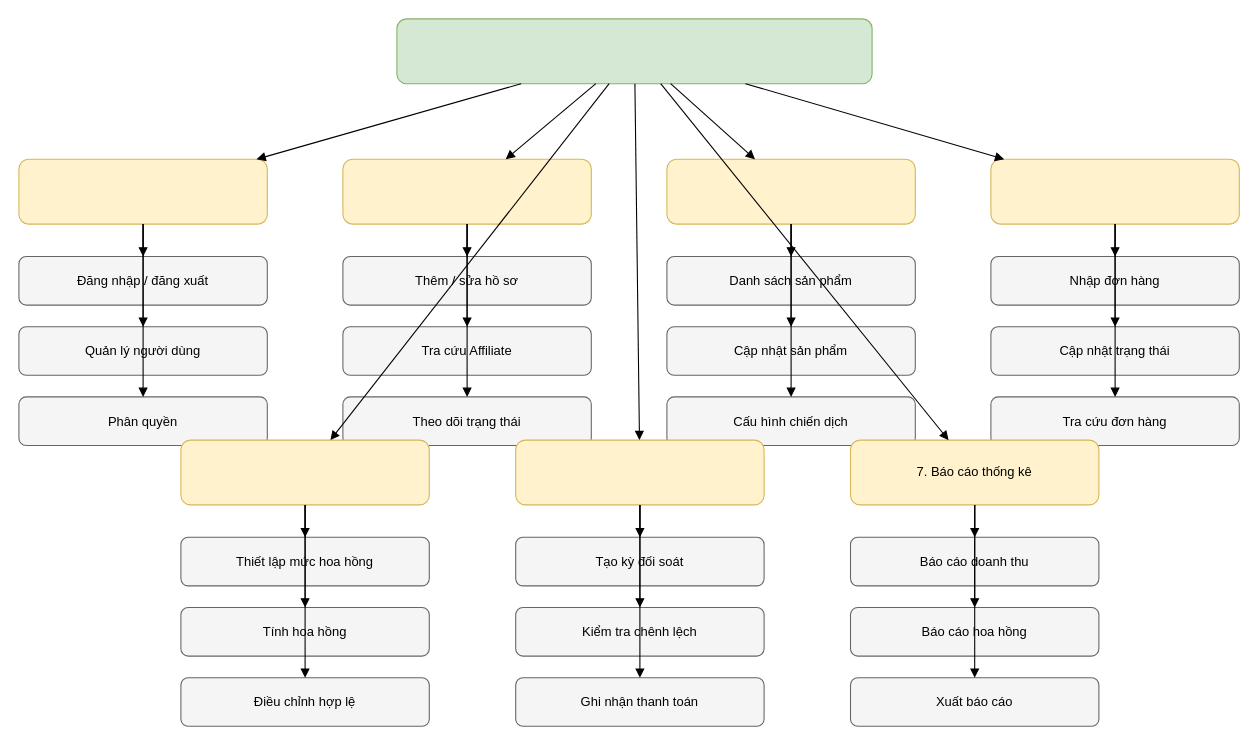
The diagram is 1258 pixels wide and 745 high, and some of its shapes have lost their labels. The centre of each missing label's shape, as x and y in pixels:
"1. Tài khoản & phân quyền" belongs at (x=142, y=191).
"2. Quản lý Affiliate" belongs at (x=466, y=191).
"3. Quản lý sản phẩm" belongs at (x=790, y=191).
"4. Quản lý đơn hàng" belongs at (x=1114, y=191).
"5. Tính hoa hồng" belongs at (x=304, y=472).
"6. Đối soát & thanh toán" belongs at (x=639, y=472).
"HỆ THỐNG ĐỐI SOÁT HOA HỒNG PHÚC LONG MART" belongs at (x=634, y=51).
